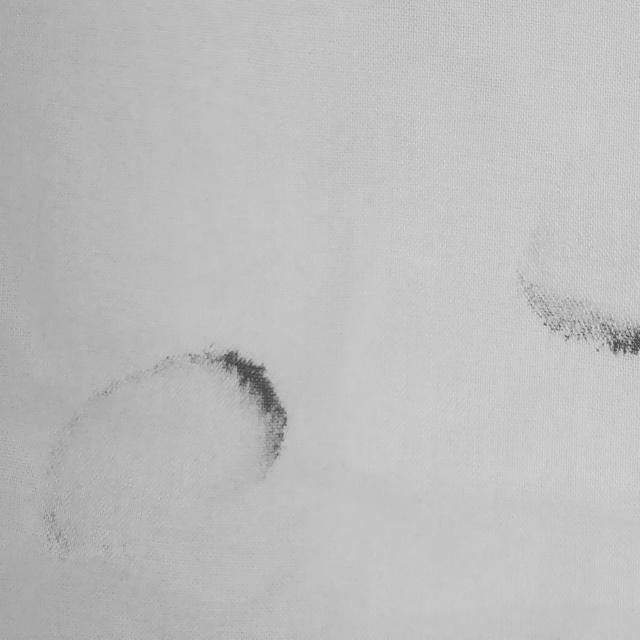Stain: (44, 351, 286, 570), (520, 274, 640, 354)
